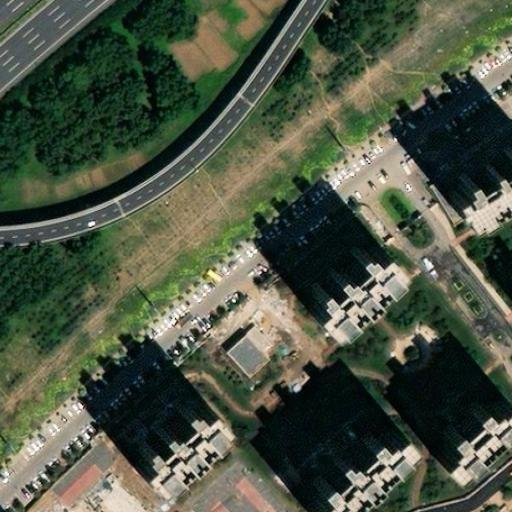building: (132, 410, 221, 501), (428, 140, 512, 236), (308, 256, 397, 346), (307, 434, 406, 512), (291, 240, 374, 325), (435, 408, 512, 482), (439, 160, 512, 230), (227, 339, 280, 392)
